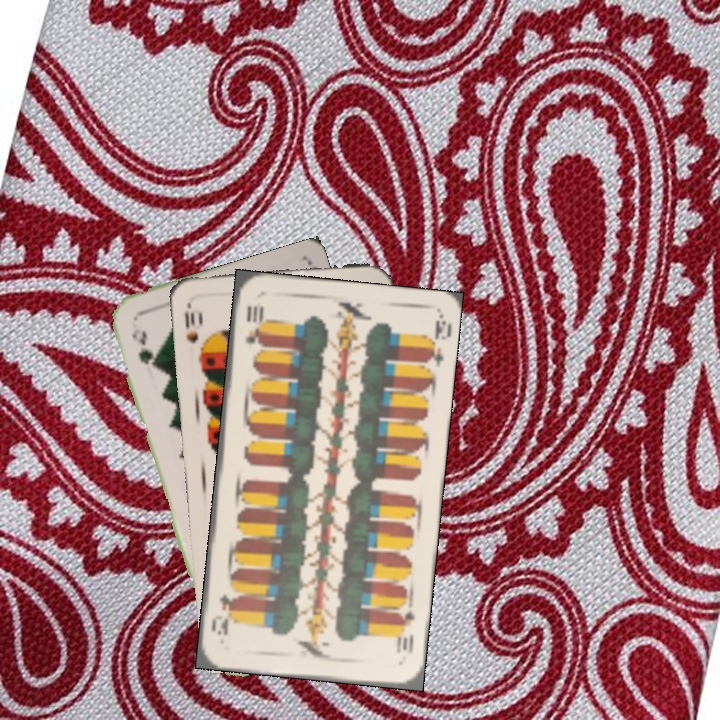E10: (241, 302, 266, 356), (392, 606, 418, 656)
G9: (128, 324, 158, 370)
S10: (180, 308, 201, 346)
